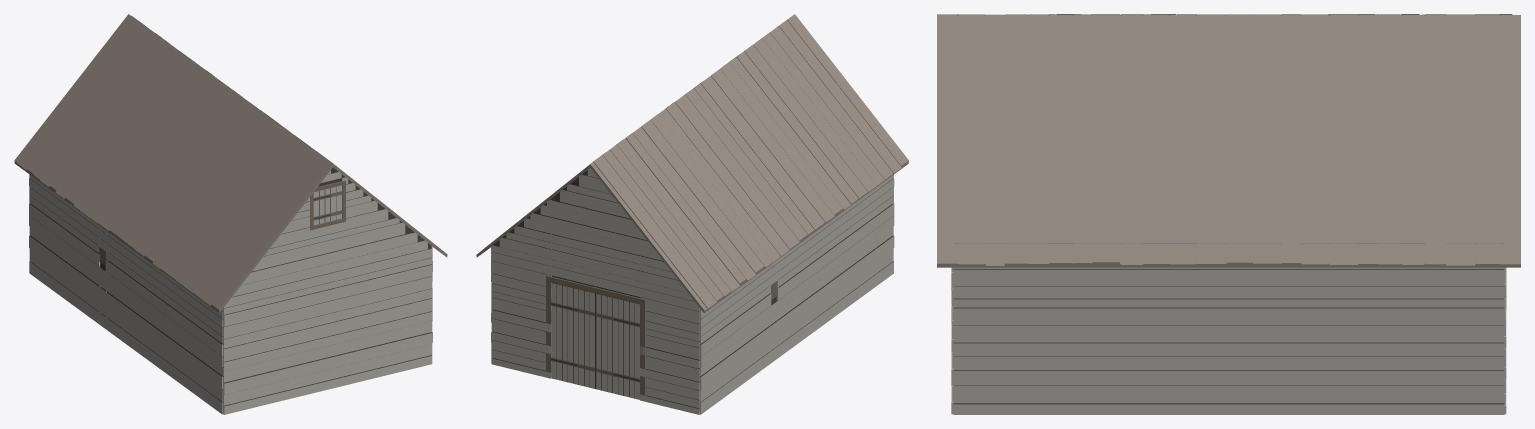
Rendered from recon_1835_north_a2_097__inferred_1835.glb.
The picture shows the model from 3 angles, left to right: view 1: azimuth 30°, elevation 25°; view 2: azimuth 150°, elevation 25°; view 3: azimuth 270°, elevation 25°; orthographic projection. The views are drawn at different scales.
Parts seen in each view (by area): view 1: recon_1835_north_a2_097__inferred_1835; view 2: recon_1835_north_a2_097__inferred_1835; view 3: recon_1835_north_a2_097__inferred_1835.
Boxes of the visible parts, x1=… form: recon_1835_north_a2_097__inferred_1835: x1=14, y1=14, x2=447, y2=414; recon_1835_north_a2_097__inferred_1835: x1=476, y1=14, x2=908, y2=414; recon_1835_north_a2_097__inferred_1835: x1=937, y1=14, x2=1520, y2=414.
Size of the model in its own units: 7.51 by 7.15 by 11.53.
